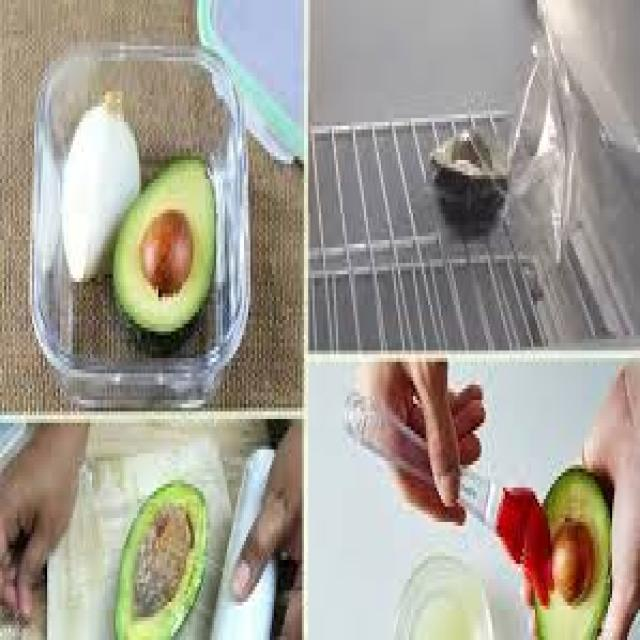avocado: (112, 106, 221, 342), (103, 423, 218, 640), (515, 448, 637, 640), (426, 92, 520, 238)
